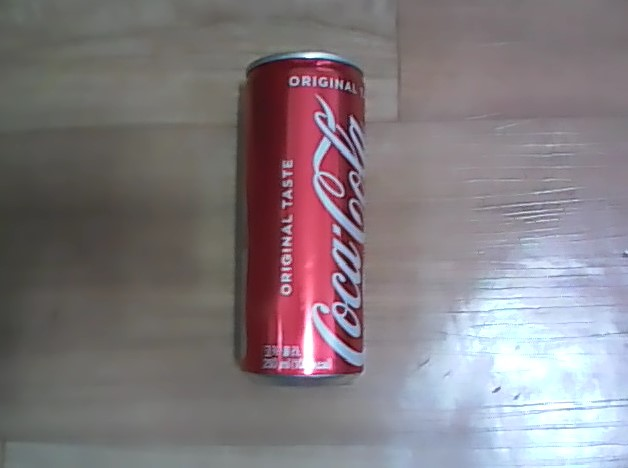Can: (232, 44, 376, 396)
